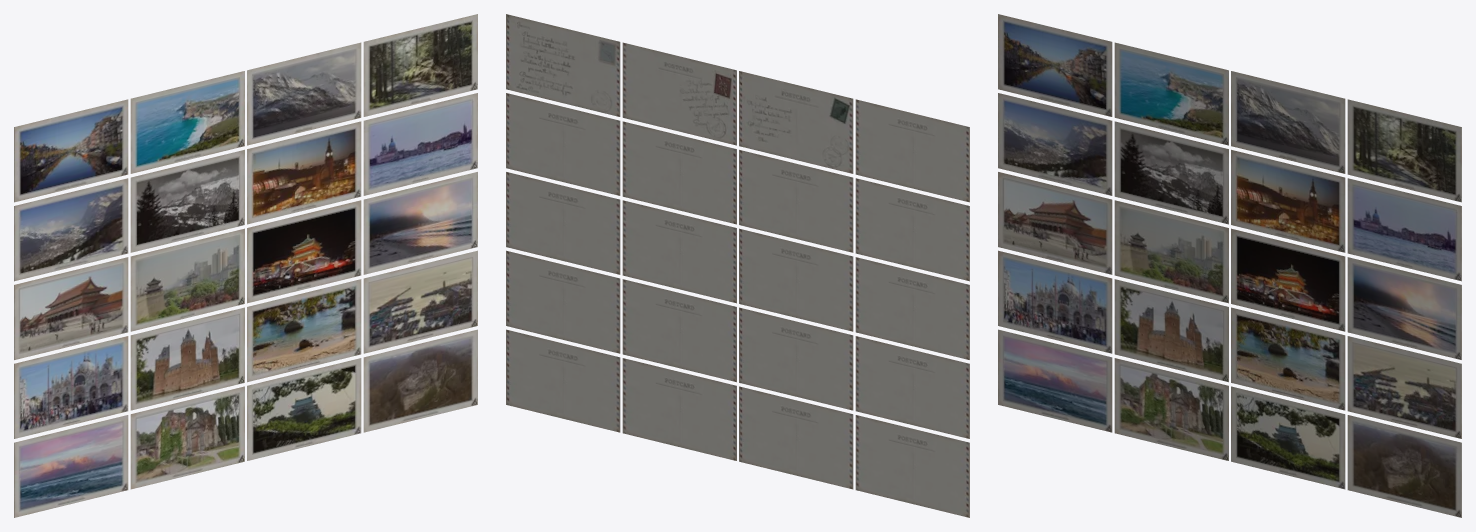
File: postcards.glb
3 views of the same model, side by side, from view 1: azimuth 30°, elevation 25°; view 2: azimuth 150°, elevation 25°; view 3: azimuth 330°, elevation 25° (orthographic).
Parts seen in each view (by area): view 1: postcard_01, postcard_03, postcard_05, postcard_07, postcard_14, postcard_16, postcard_18, postcard_20, postcard_10, postcard_11, postcard_02, postcard_08 (+8 smaller); view 2: postcard_01, postcard_03, postcard_05, postcard_07, postcard_14, postcard_16, postcard_18, postcard_20, postcard_10, postcard_11, postcard_02, postcard_08 (+8 smaller); view 3: postcard_02, postcard_04, postcard_06, postcard_08, postcard_13, postcard_15, postcard_17, postcard_19, postcard_10, postcard_11, postcard_03, postcard_05 (+8 smaller).
Boxes of the visible parts, x1,y1,x2,y2 form: postcard_01: (14, 99, 128, 202); postcard_03: (247, 42, 361, 145); postcard_05: (14, 178, 128, 281); postcard_07: (247, 121, 361, 224); postcard_14: (130, 307, 244, 410); postcard_16: (363, 250, 477, 353); postcard_18: (130, 386, 244, 489); postcard_20: (363, 329, 477, 432); postcard_10: (130, 228, 244, 331); postcard_11: (247, 200, 361, 303); postcard_02: (130, 71, 244, 173); postcard_08: (363, 93, 477, 195); postcard_01: (855, 99, 969, 202); postcard_03: (622, 42, 736, 145); postcard_05: (855, 178, 969, 281); postcard_07: (622, 121, 736, 224); postcard_14: (739, 307, 853, 410); postcard_16: (506, 250, 620, 353); postcard_18: (739, 386, 853, 489); postcard_20: (506, 329, 620, 432); postcard_10: (739, 228, 853, 331); postcard_11: (622, 200, 736, 303); postcard_02: (739, 71, 853, 173); postcard_08: (506, 93, 620, 195); postcard_02: (1114, 42, 1228, 145); postcard_04: (1347, 99, 1461, 202); postcard_06: (1114, 121, 1228, 224); postcard_08: (1347, 178, 1461, 281); postcard_13: (998, 250, 1112, 353); postcard_15: (1231, 307, 1345, 410); postcard_17: (998, 329, 1112, 432); postcard_19: (1231, 386, 1345, 489); postcard_10: (1114, 200, 1228, 303); postcard_11: (1231, 228, 1345, 331); postcard_03: (1231, 71, 1345, 173); postcard_05: (998, 93, 1112, 195).
Size of the model in its own units: 0.6767 by 0.545 by 0.000142.
Materials: 1 (1 with a texture image).
